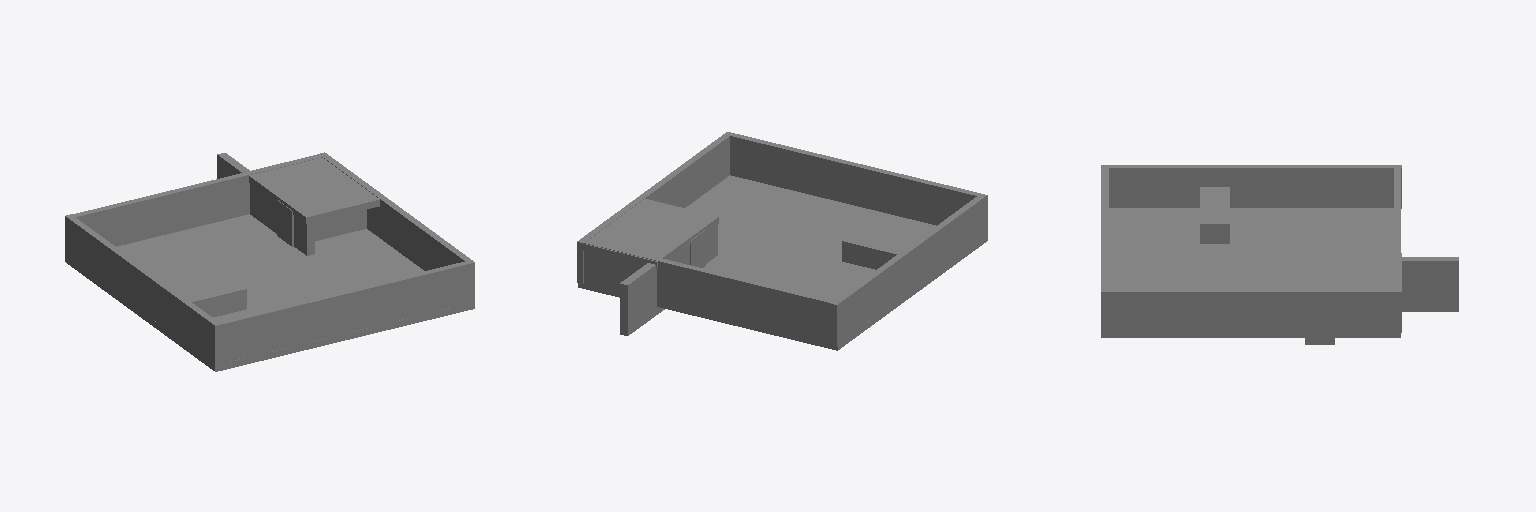
File: simplescene.obj
3 views of the same model, side by side, from view 1: azimuth 30°, elevation 25°; view 2: azimuth 150°, elevation 25°; view 3: azimuth 270°, elevation 25° (orthographic).
Visible parts, largest first — view 1: default; view 2: default; view 3: default.
Boxes of the visible parts, x1=… form: default: x1=65, y1=152, x2=474, y2=371; default: x1=577, y1=132, x2=987, y2=350; default: x1=1101, y1=165, x2=1458, y2=344.
Size of the model in its own units: 40.05 by 8.02 by 47.76.